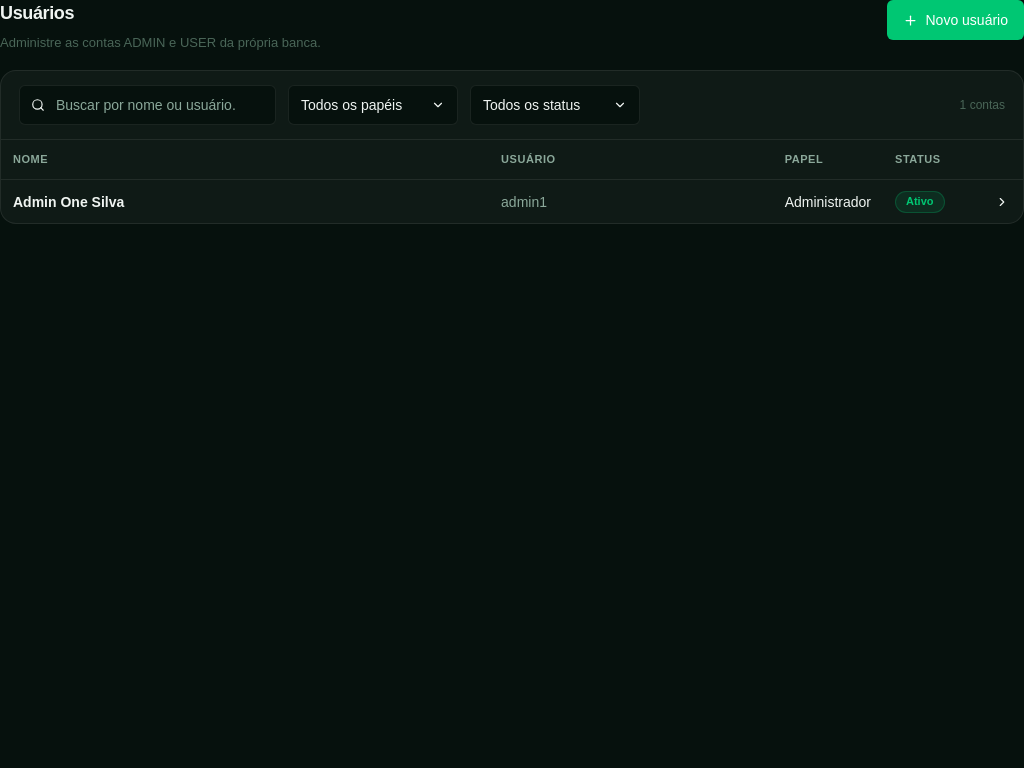
it: UsuariosSection — detalhe/edição/papel/status/senha/sessões dentro do drawer › redefinição de senha exibe a senha temporária uma única vez, copiável, e previne duplo clique
Click the row named "abrir detalhes": (512, 201) [1,180,1023,223]
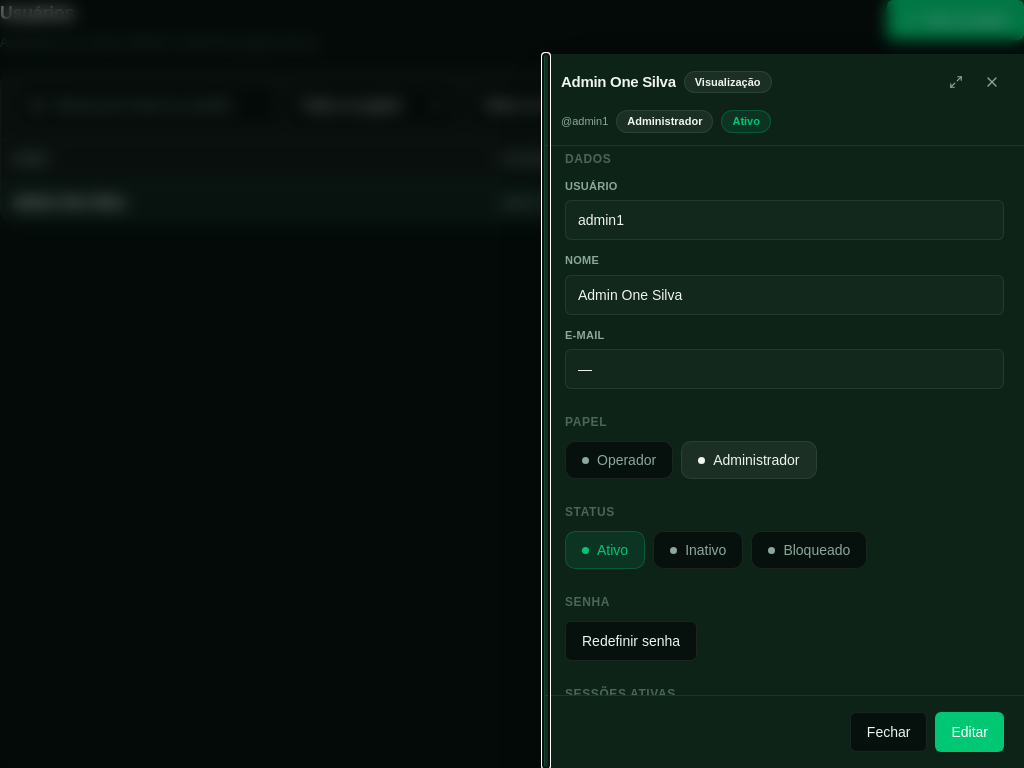
Click the button "Redefinir senha": (631, 641) [565,621,697,661]
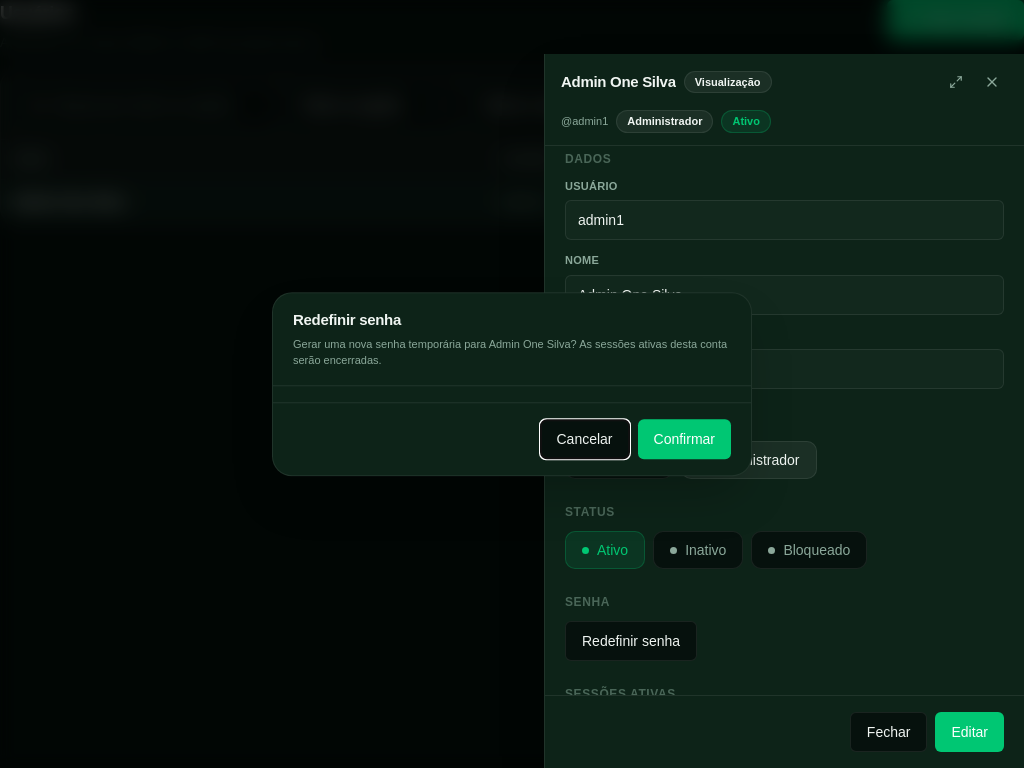
Click the button "Confirmar": (684, 439) [638,419,731,459]
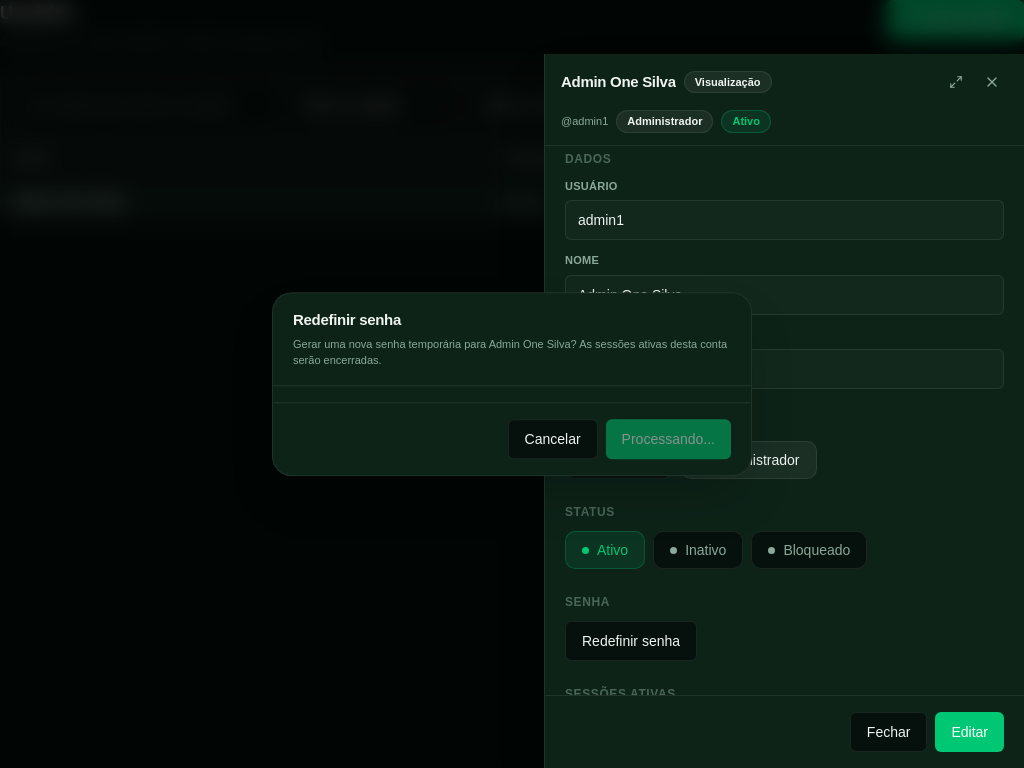
Click the button named "confirmar": (668, 439) [606,419,731,459]
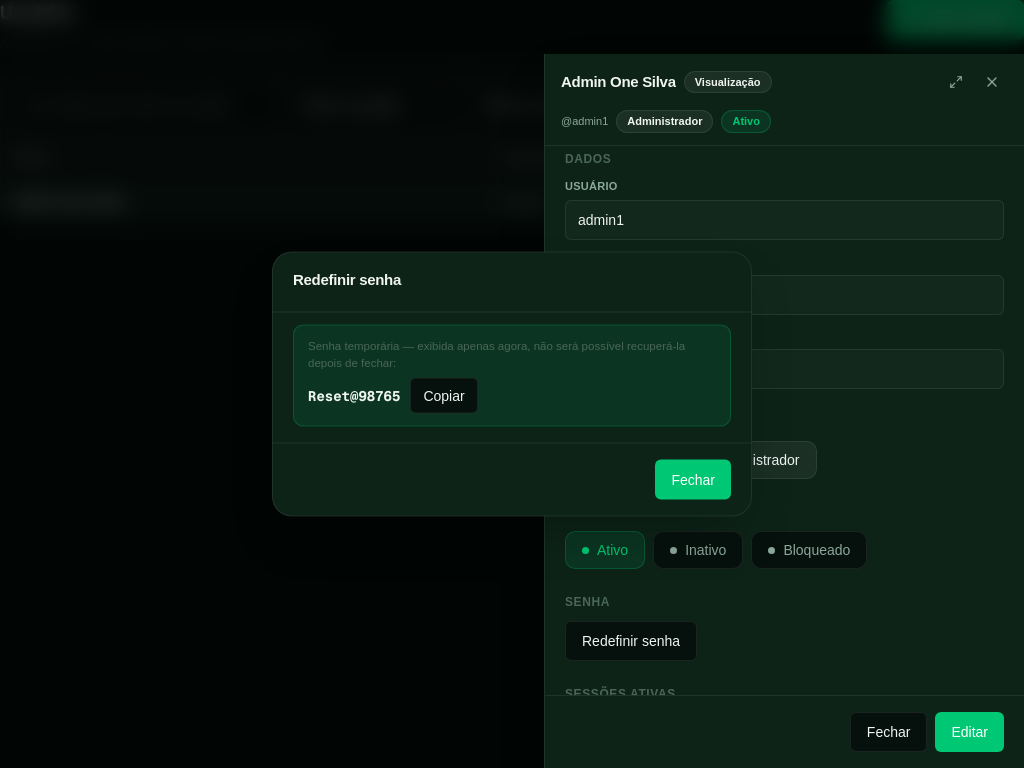
Expected: the text "Reset@98765" is shown, [308,385,400,406]
Expected: the button "Copiar" is shown, [410,378,478,414]
